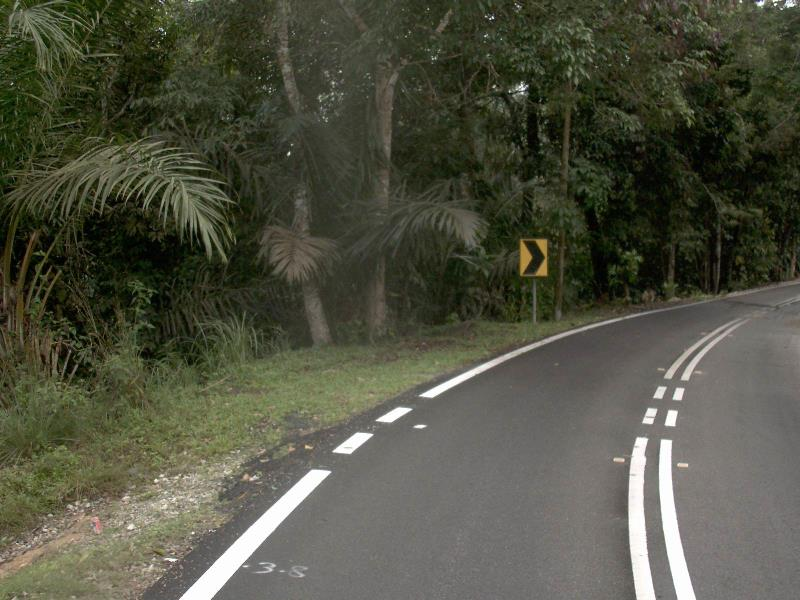traffic_sign: (512, 228, 556, 285)
